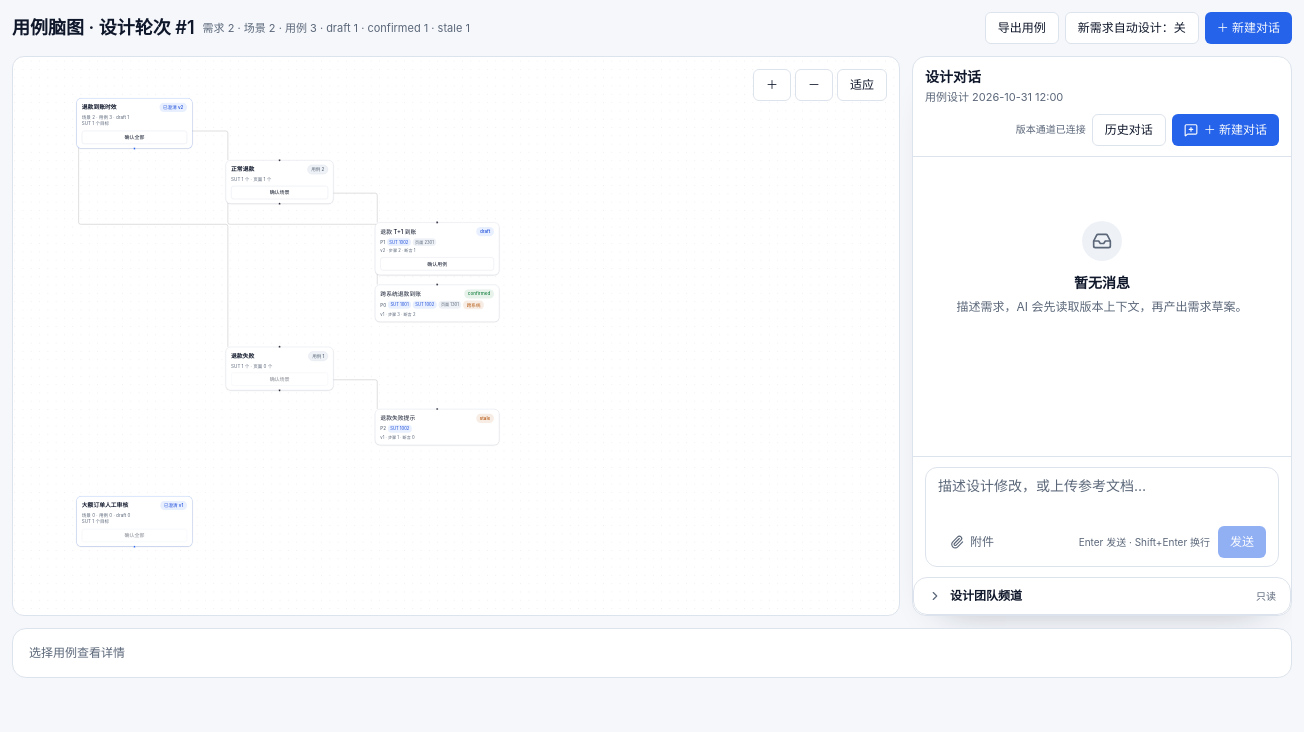
Test case: DesignTab › confirms a whole requirement and refreshes the graph
Click the button with test id "btn-confirm-requirement-6001" at (134, 137), box [82, 131, 187, 144]
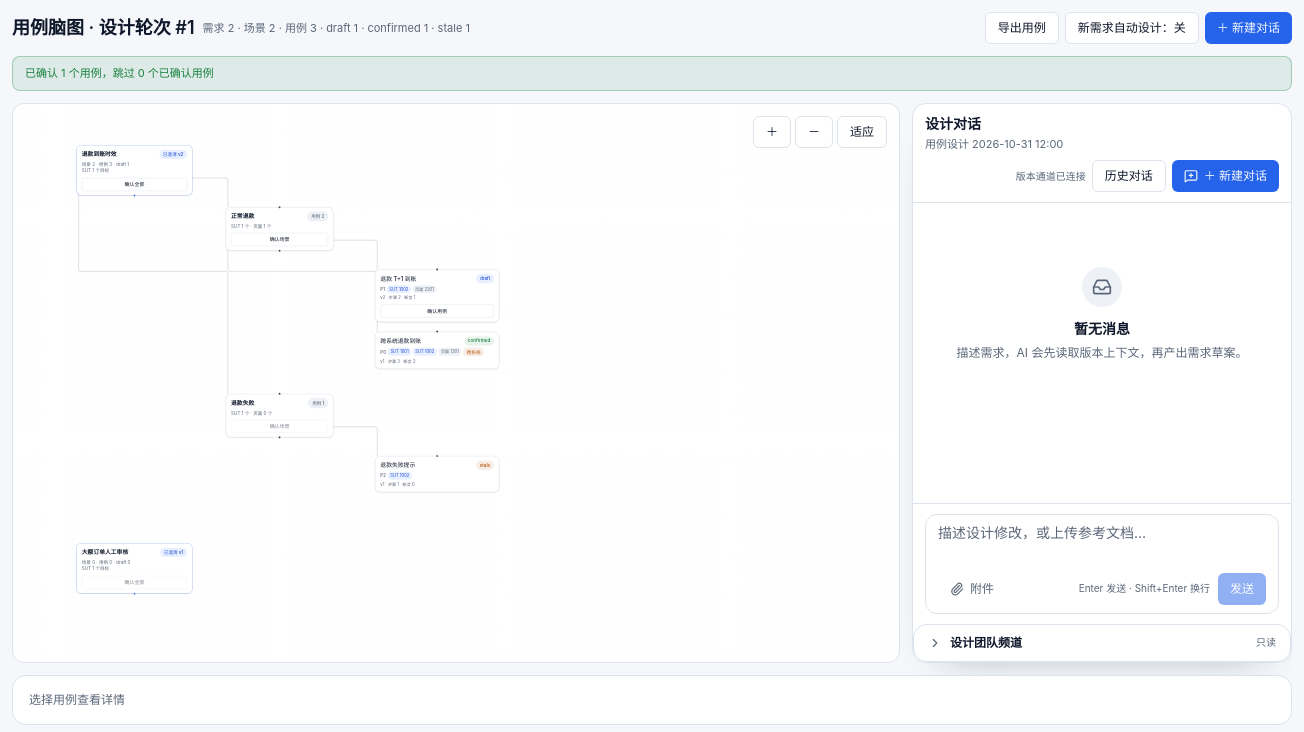
Now the message with test id "design-confirm-notice" shows "已确认 1 个用例", box [25, 66, 214, 80]
